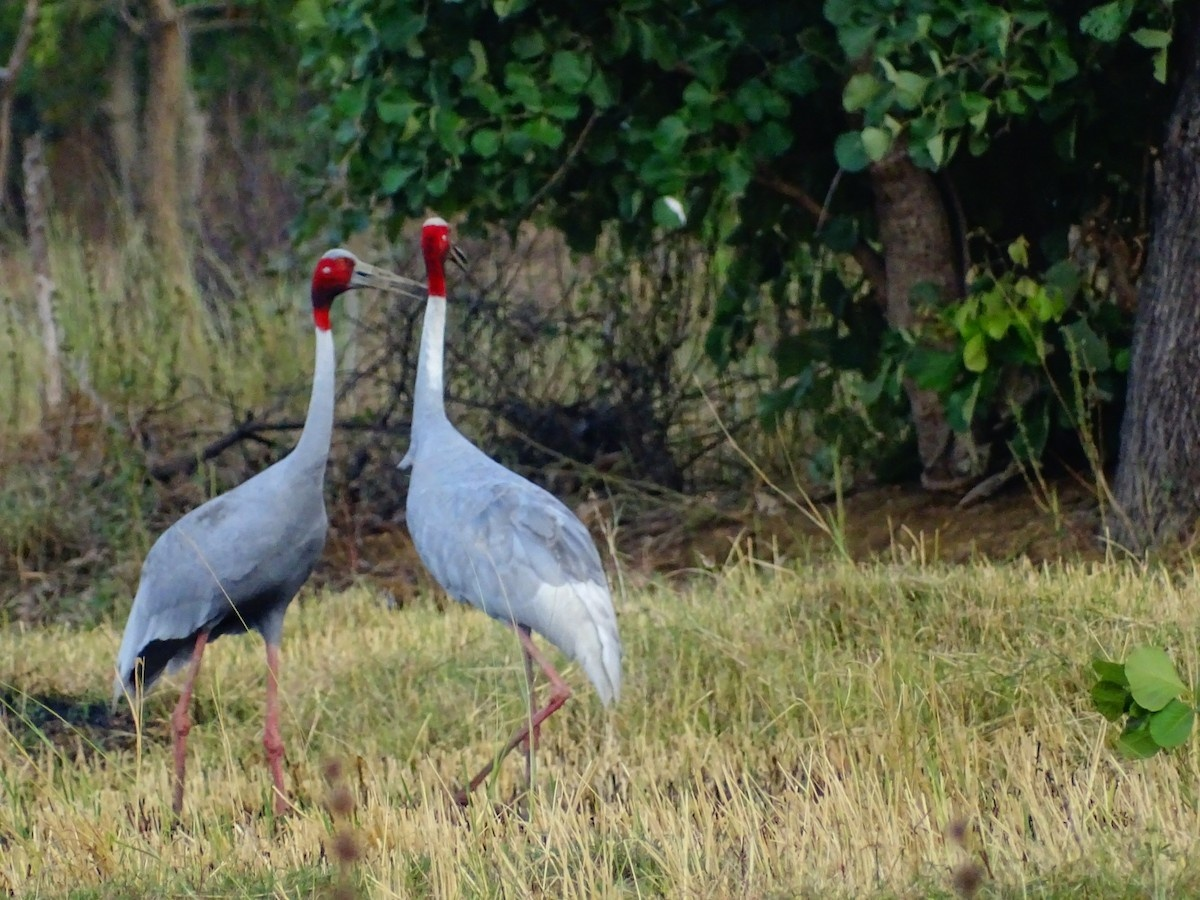crane: (85, 242, 428, 850), (411, 198, 624, 802)
